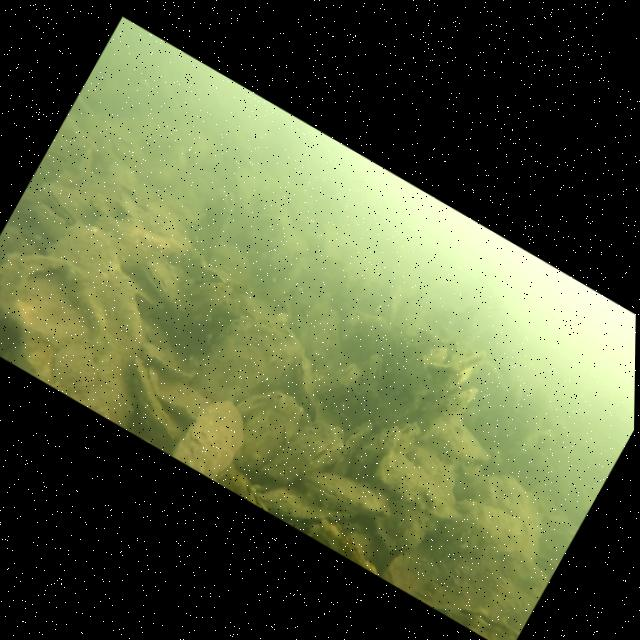Oyster-Closed: (154, 255, 254, 372), (260, 402, 352, 506), (370, 446, 470, 532), (108, 356, 201, 442), (298, 455, 396, 534), (347, 399, 426, 492), (249, 470, 344, 547), (423, 408, 500, 479), (133, 365, 210, 427), (364, 492, 432, 560), (276, 353, 341, 422), (339, 346, 396, 415), (312, 351, 366, 412), (294, 316, 344, 374), (337, 412, 375, 457)
Oyster-Indeterminate: (0, 233, 159, 417), (21, 207, 184, 365), (383, 495, 556, 640), (185, 295, 307, 429), (209, 374, 312, 491), (435, 483, 535, 575), (169, 386, 259, 487)
Oyster-Open: (178, 179, 246, 265), (27, 174, 100, 237), (130, 252, 188, 308)
